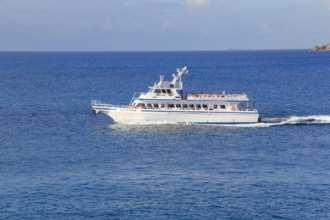otherboat: (91, 63, 260, 128)
